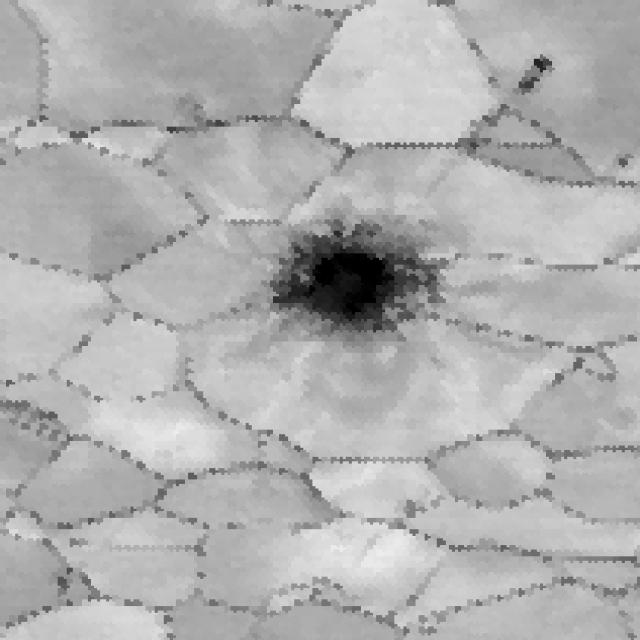good_void: (253, 206, 447, 347), (508, 49, 563, 100), (288, 574, 346, 604), (173, 90, 214, 126), (400, 492, 440, 521), (59, 535, 95, 552), (611, 147, 636, 170), (49, 574, 72, 597)
